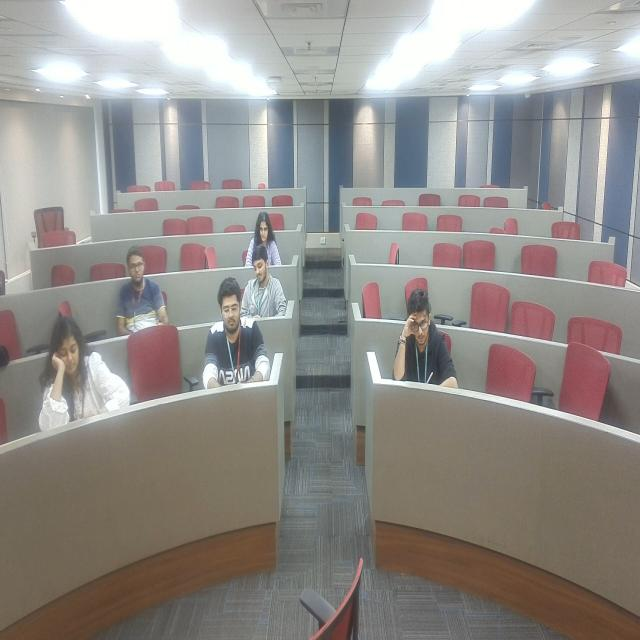non-cheating: (41, 306, 128, 452), (196, 264, 265, 437), (391, 271, 459, 406), (109, 221, 169, 335), (248, 240, 287, 318), (244, 186, 287, 248)
